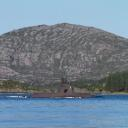submarine: (32, 70, 95, 100)
